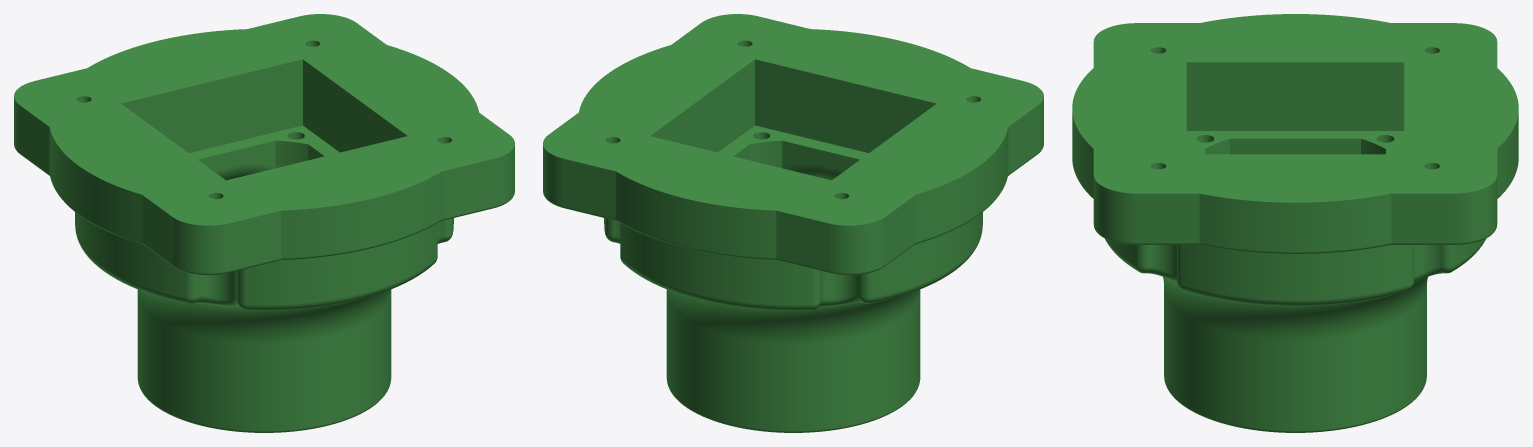
Rendered from NyxBoxV1_NyxRoyalLitterBot v106_BackPanel_1_ExhaustPort_1_3DP_Outlet_1_Body1.obj.
3 views of the same model, side by side, from view 1: azimuth 30°, elevation 25°; view 2: azimuth 150°, elevation 25°; view 3: azimuth 270°, elevation 25° (orthographic). The views are drawn at different scales.
Parts seen in each view (by area): view 1: Body1; view 2: Body1; view 3: Body1.
Part boxes in pixels (box(x1,y1,x2,y2)): Body1: box(14, 14, 514, 432); Body1: box(543, 14, 1043, 432); Body1: box(1072, 14, 1518, 432).
Size of the model in its own units: 124 by 82.8 by 124.
